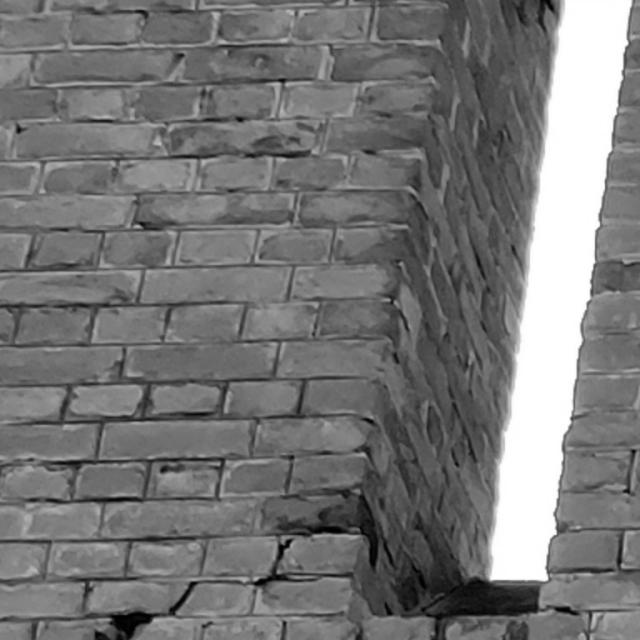crack: (92, 524, 350, 638)
